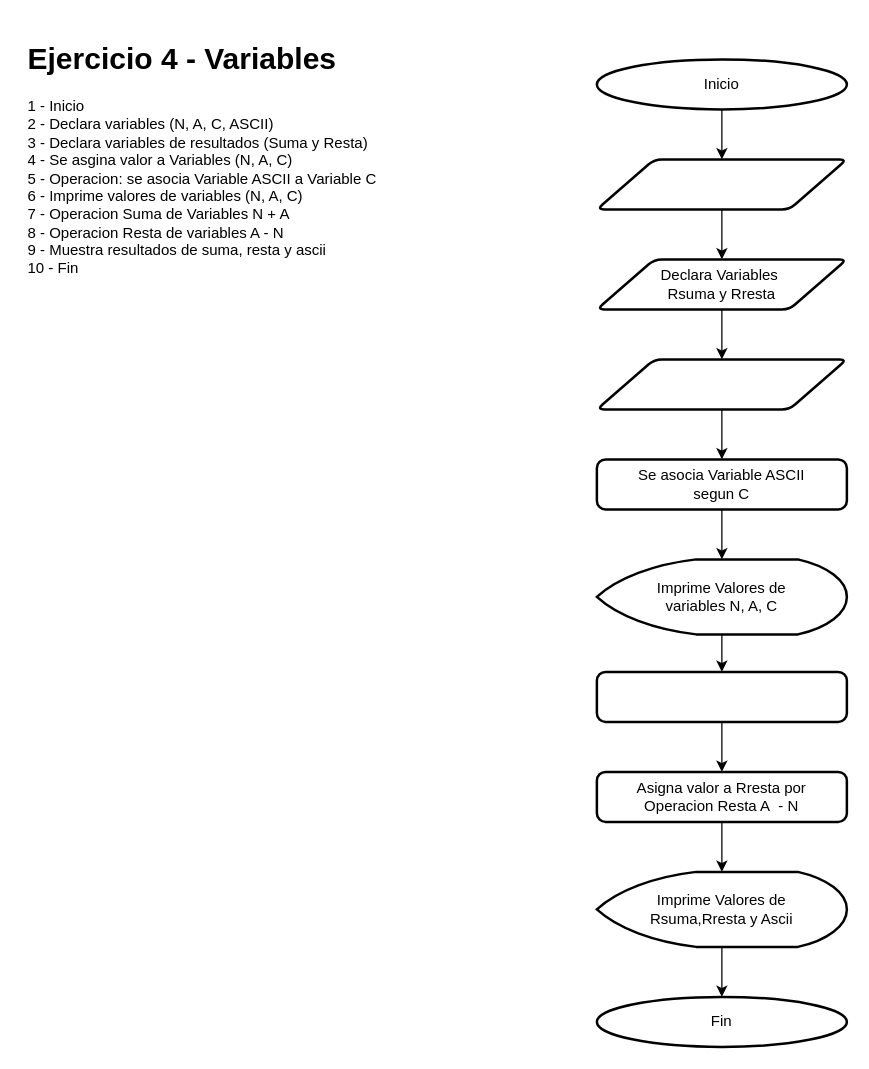
The diagram is 869 pixels wide and 1069 high, and some of its shapes have lost their labels. Each missing label, with the box of its shape:
Asigna valor a Rsuma por Operacion suma N + A: (595, 670, 848, 722)
Asigna valor a variables N, A y C: (595, 358, 848, 410)
Declara Variables N, A, C, ASCII: (595, 158, 848, 210)
